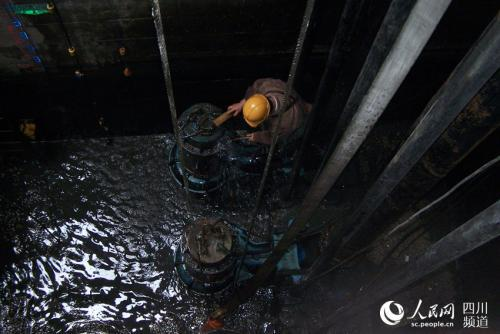helmet: (237, 93, 276, 128)
